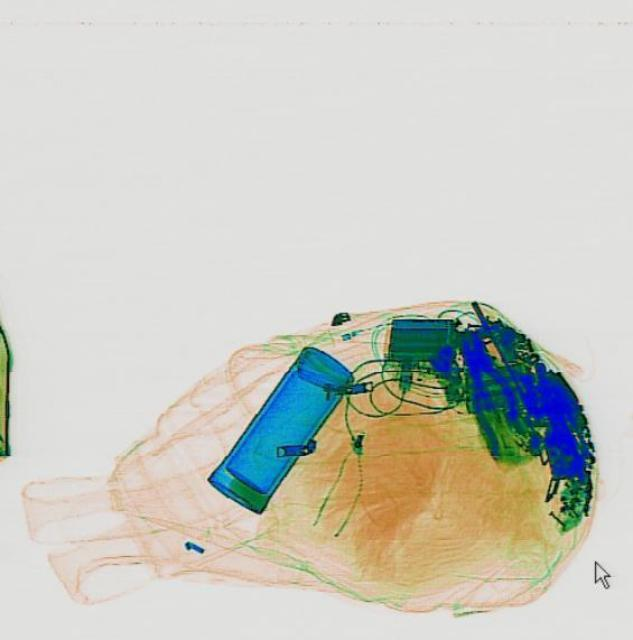Pliers: (445, 325, 524, 429)
